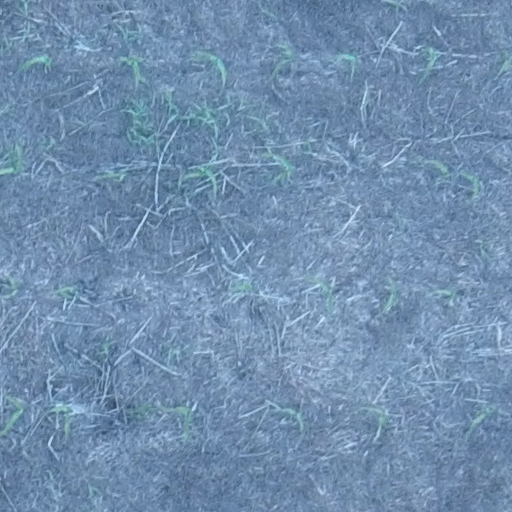planta: (192, 50, 226, 86), (162, 404, 195, 439), (262, 151, 293, 182), (308, 277, 335, 311), (181, 164, 217, 189), (118, 55, 143, 90), (271, 407, 304, 433), (468, 405, 496, 432), (419, 46, 438, 83), (366, 407, 388, 438), (332, 53, 357, 80), (275, 43, 295, 74), (51, 404, 72, 433), (19, 54, 54, 71), (382, 280, 399, 313), (463, 171, 481, 194), (430, 287, 457, 302), (5, 275, 20, 298), (497, 53, 511, 75), (100, 171, 128, 181), (55, 286, 76, 299)
